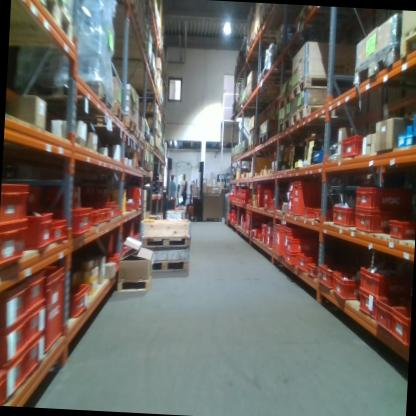pallet: (22, 79, 115, 119), (9, 0, 74, 54), (353, 40, 398, 88), (292, 70, 353, 103), (290, 103, 363, 129), (256, 67, 297, 94), (135, 232, 191, 250), (151, 251, 191, 276), (397, 21, 416, 63), (270, 43, 301, 67), (111, 114, 139, 138), (121, 52, 152, 73), (245, 89, 277, 107), (109, 100, 126, 126), (129, 127, 146, 146), (277, 90, 292, 110), (277, 114, 289, 136), (145, 65, 156, 84), (258, 132, 275, 144), (139, 157, 150, 173), (258, 15, 268, 32), (246, 141, 259, 153), (264, 3, 275, 16), (249, 124, 260, 135), (140, 140, 150, 151), (253, 26, 259, 42), (240, 149, 247, 158), (147, 163, 153, 173), (149, 145, 154, 154)
pallet_truck: (187, 160, 205, 224), (163, 156, 183, 210), (174, 177, 183, 212)
small_load_carrier: (36, 264, 68, 352), (355, 254, 408, 300), (353, 181, 411, 214), (0, 176, 34, 232), (0, 220, 32, 277), (0, 345, 29, 405), (49, 202, 94, 240), (371, 295, 406, 342), (0, 283, 30, 334), (0, 315, 29, 367), (291, 178, 325, 220), (25, 205, 52, 256), (278, 223, 307, 266), (22, 300, 48, 347), (21, 269, 48, 310), (21, 334, 45, 377), (352, 210, 388, 238), (387, 304, 411, 345), (330, 269, 359, 301), (44, 212, 67, 250), (330, 199, 355, 233), (354, 289, 378, 321), (386, 216, 414, 242), (295, 250, 323, 275), (70, 281, 88, 319), (282, 235, 315, 254), (317, 261, 337, 290), (342, 133, 364, 159), (271, 221, 284, 257), (105, 252, 121, 279), (254, 182, 270, 208), (312, 208, 332, 225), (100, 198, 115, 220), (282, 250, 299, 266), (90, 207, 101, 230), (0, 374, 8, 405), (307, 261, 321, 278), (301, 202, 313, 221), (267, 196, 280, 212), (101, 207, 111, 224), (265, 222, 275, 238), (263, 187, 274, 199), (261, 222, 269, 236), (128, 198, 135, 213), (286, 202, 294, 215), (98, 209, 106, 222), (287, 181, 294, 194), (243, 188, 252, 197), (253, 227, 259, 240), (261, 234, 267, 246), (261, 197, 267, 209), (247, 197, 255, 206), (241, 197, 249, 206), (266, 236, 273, 246), (115, 202, 120, 214), (287, 193, 294, 201), (257, 232, 263, 241)
